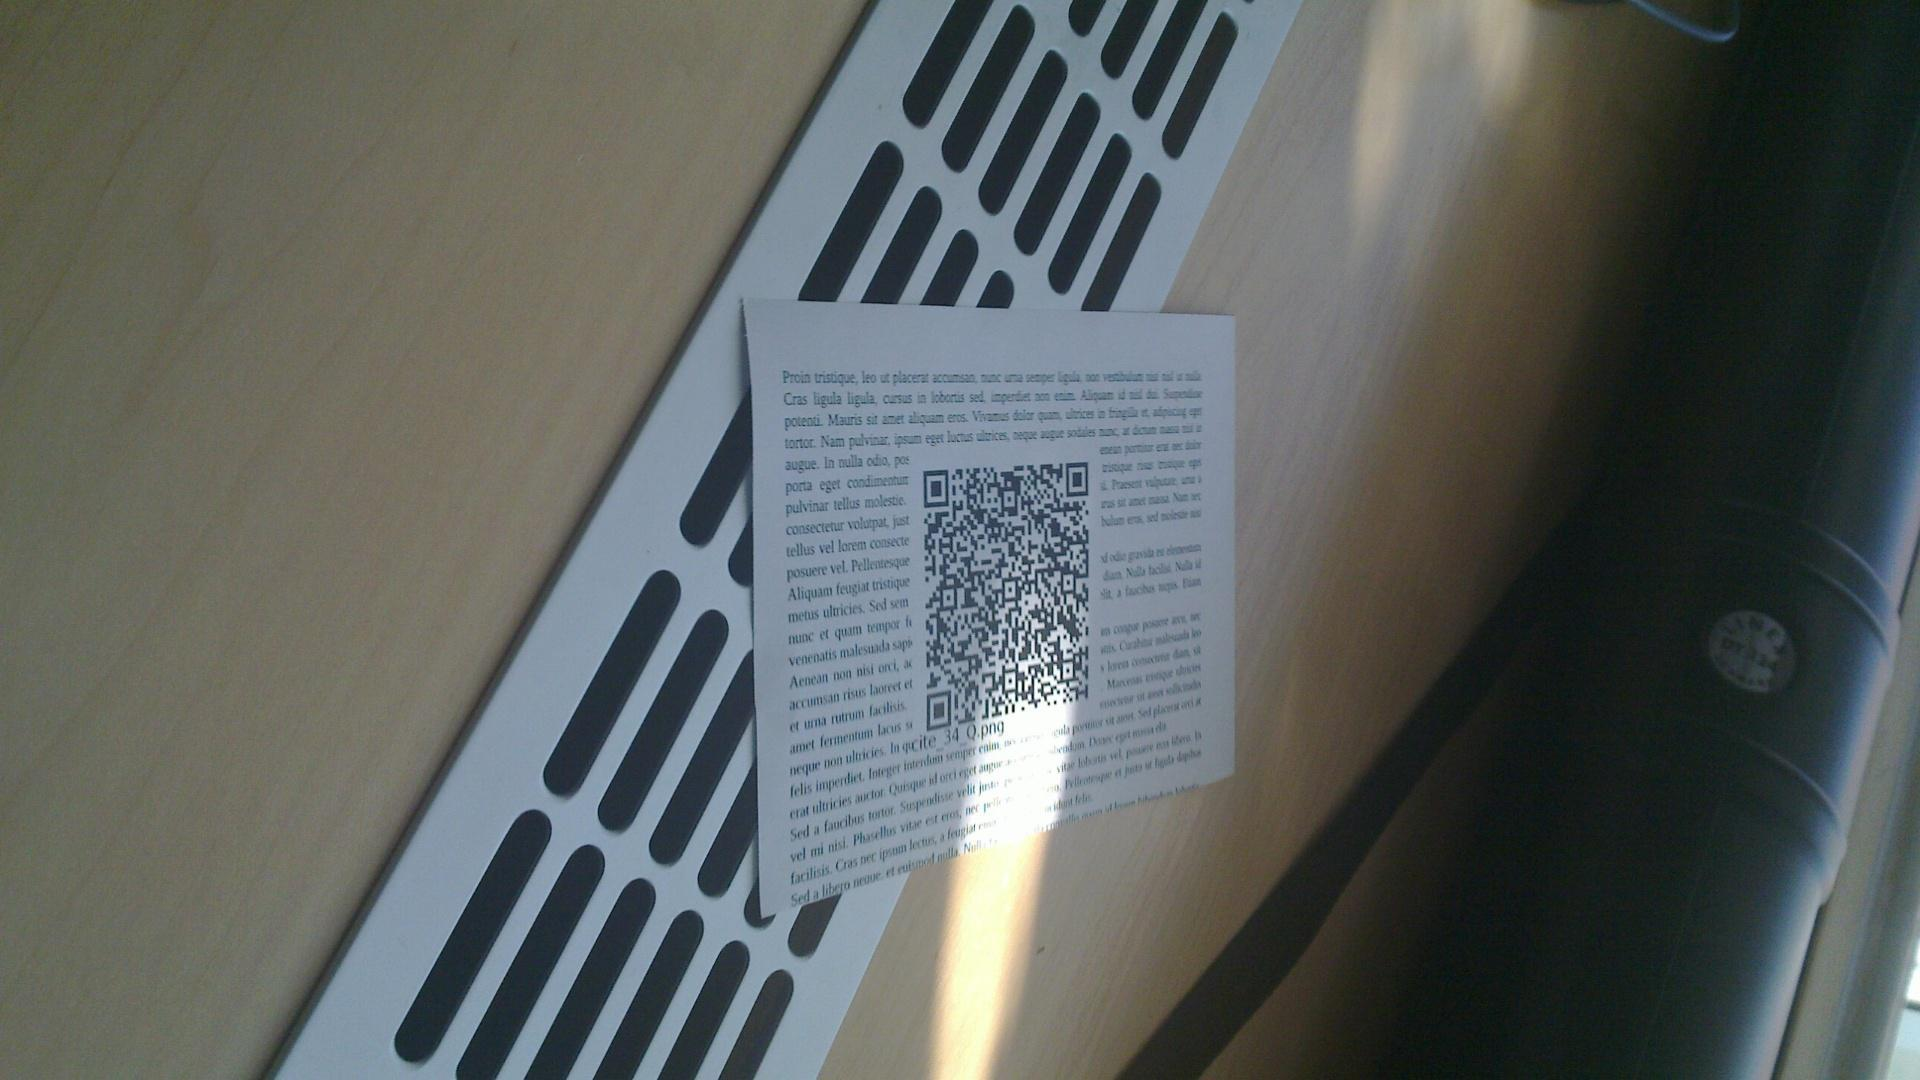Finder pattern: (922, 686, 953, 733), (920, 464, 952, 508), (1063, 456, 1088, 505)
